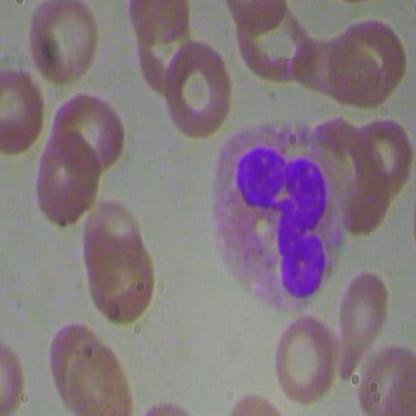RBC: (328, 9, 412, 110), (160, 40, 244, 140), (77, 228, 161, 328), (29, 127, 112, 228), (23, 0, 109, 85), (62, 330, 146, 416), (336, 268, 391, 390), (269, 316, 347, 402), (1, 62, 57, 160), (122, 0, 204, 52)
WBC: (200, 121, 352, 316)
